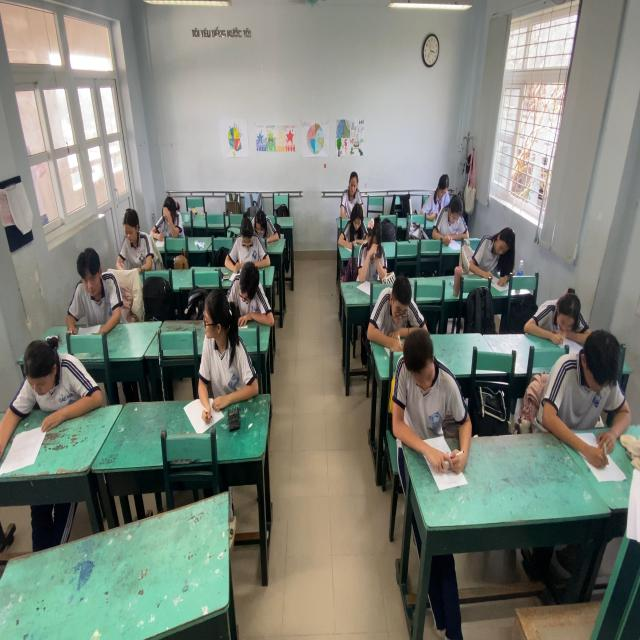cheating: (181, 283, 249, 411)
not_cheating: (386, 332, 471, 453), (543, 318, 628, 436), (5, 339, 104, 411), (66, 245, 121, 329), (226, 260, 278, 332), (470, 214, 520, 284), (527, 287, 586, 343), (111, 204, 158, 272), (370, 272, 422, 328), (152, 196, 185, 249), (230, 217, 265, 266), (362, 222, 387, 284), (424, 170, 451, 221), (446, 200, 471, 245), (340, 170, 364, 214), (344, 197, 366, 242), (253, 210, 278, 245)
